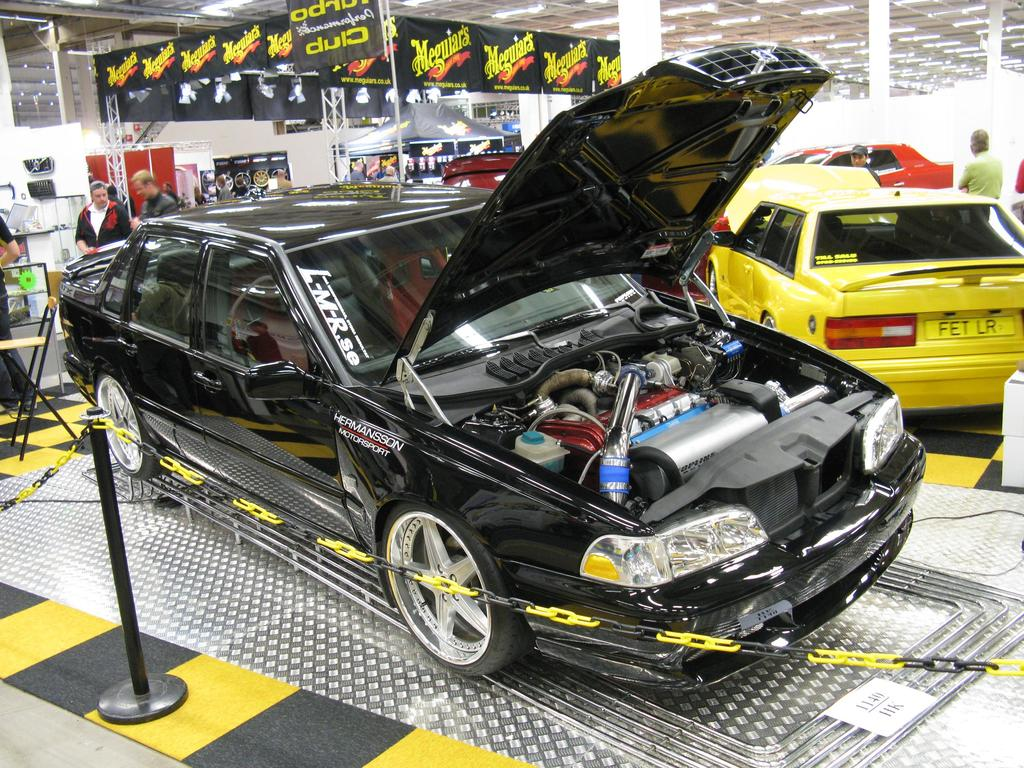Car: (65, 43, 933, 687), (708, 163, 1023, 414), (778, 140, 957, 190)
